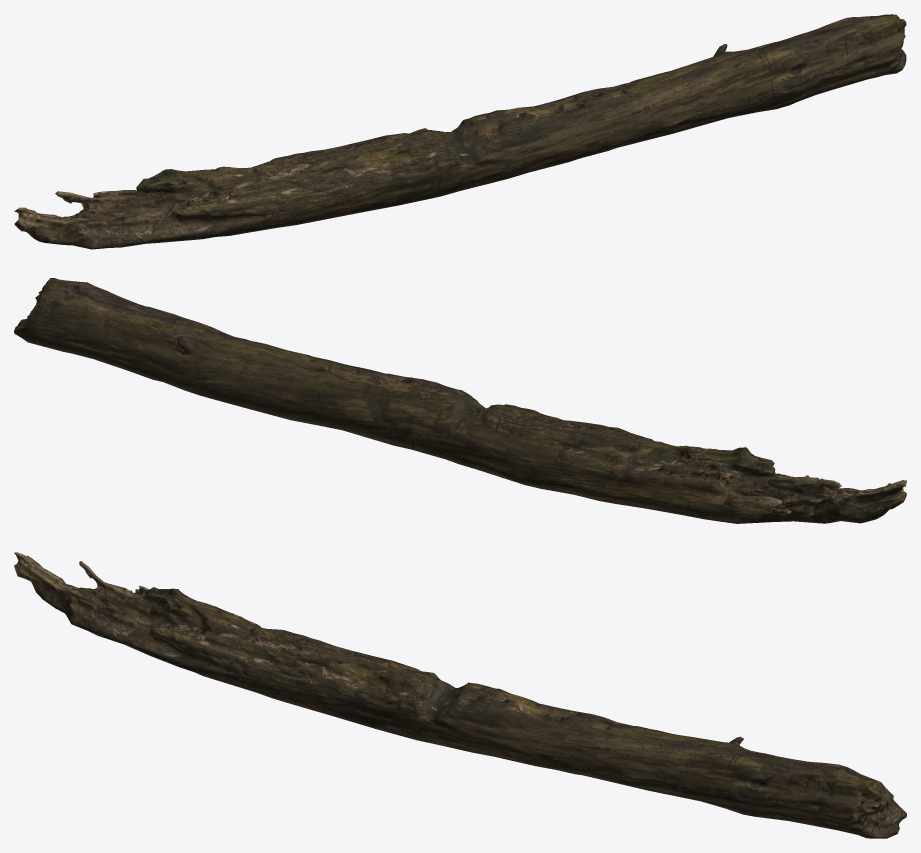
The model's file is log.glb.
The picture shows the model from 3 angles, top to bottom: view 1: azimuth 30°, elevation 25°; view 2: azimuth 150°, elevation 25°; view 3: azimuth 330°, elevation 25°; orthographic projection.
Visible parts, largest first — view 1: LOD0; view 2: LOD0; view 3: LOD0.
Boxes of the visible parts, x1,y1,x2,y2 form: LOD0: (14, 14, 906, 249); LOD0: (14, 278, 906, 523); LOD0: (14, 552, 906, 838).
Bounding box in the file's own units: 3.05 × 0.2869 × 0.2765.
Materials: 1 (1 with a texture image).
